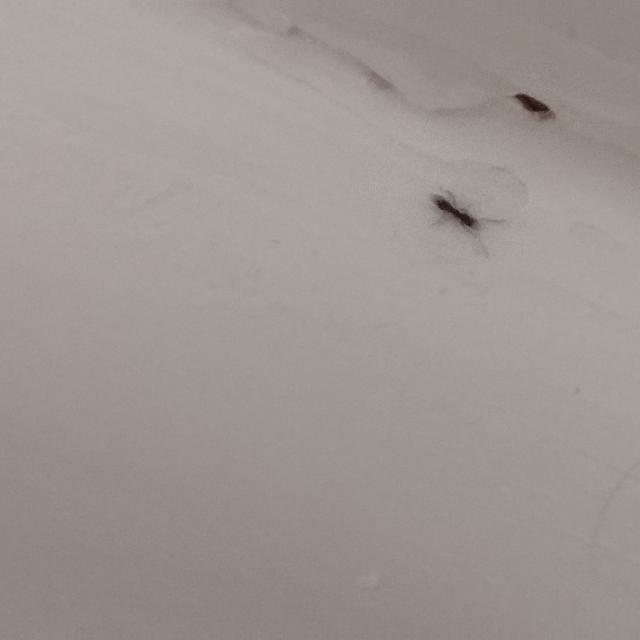Tapinoma: (426, 190, 488, 240)
